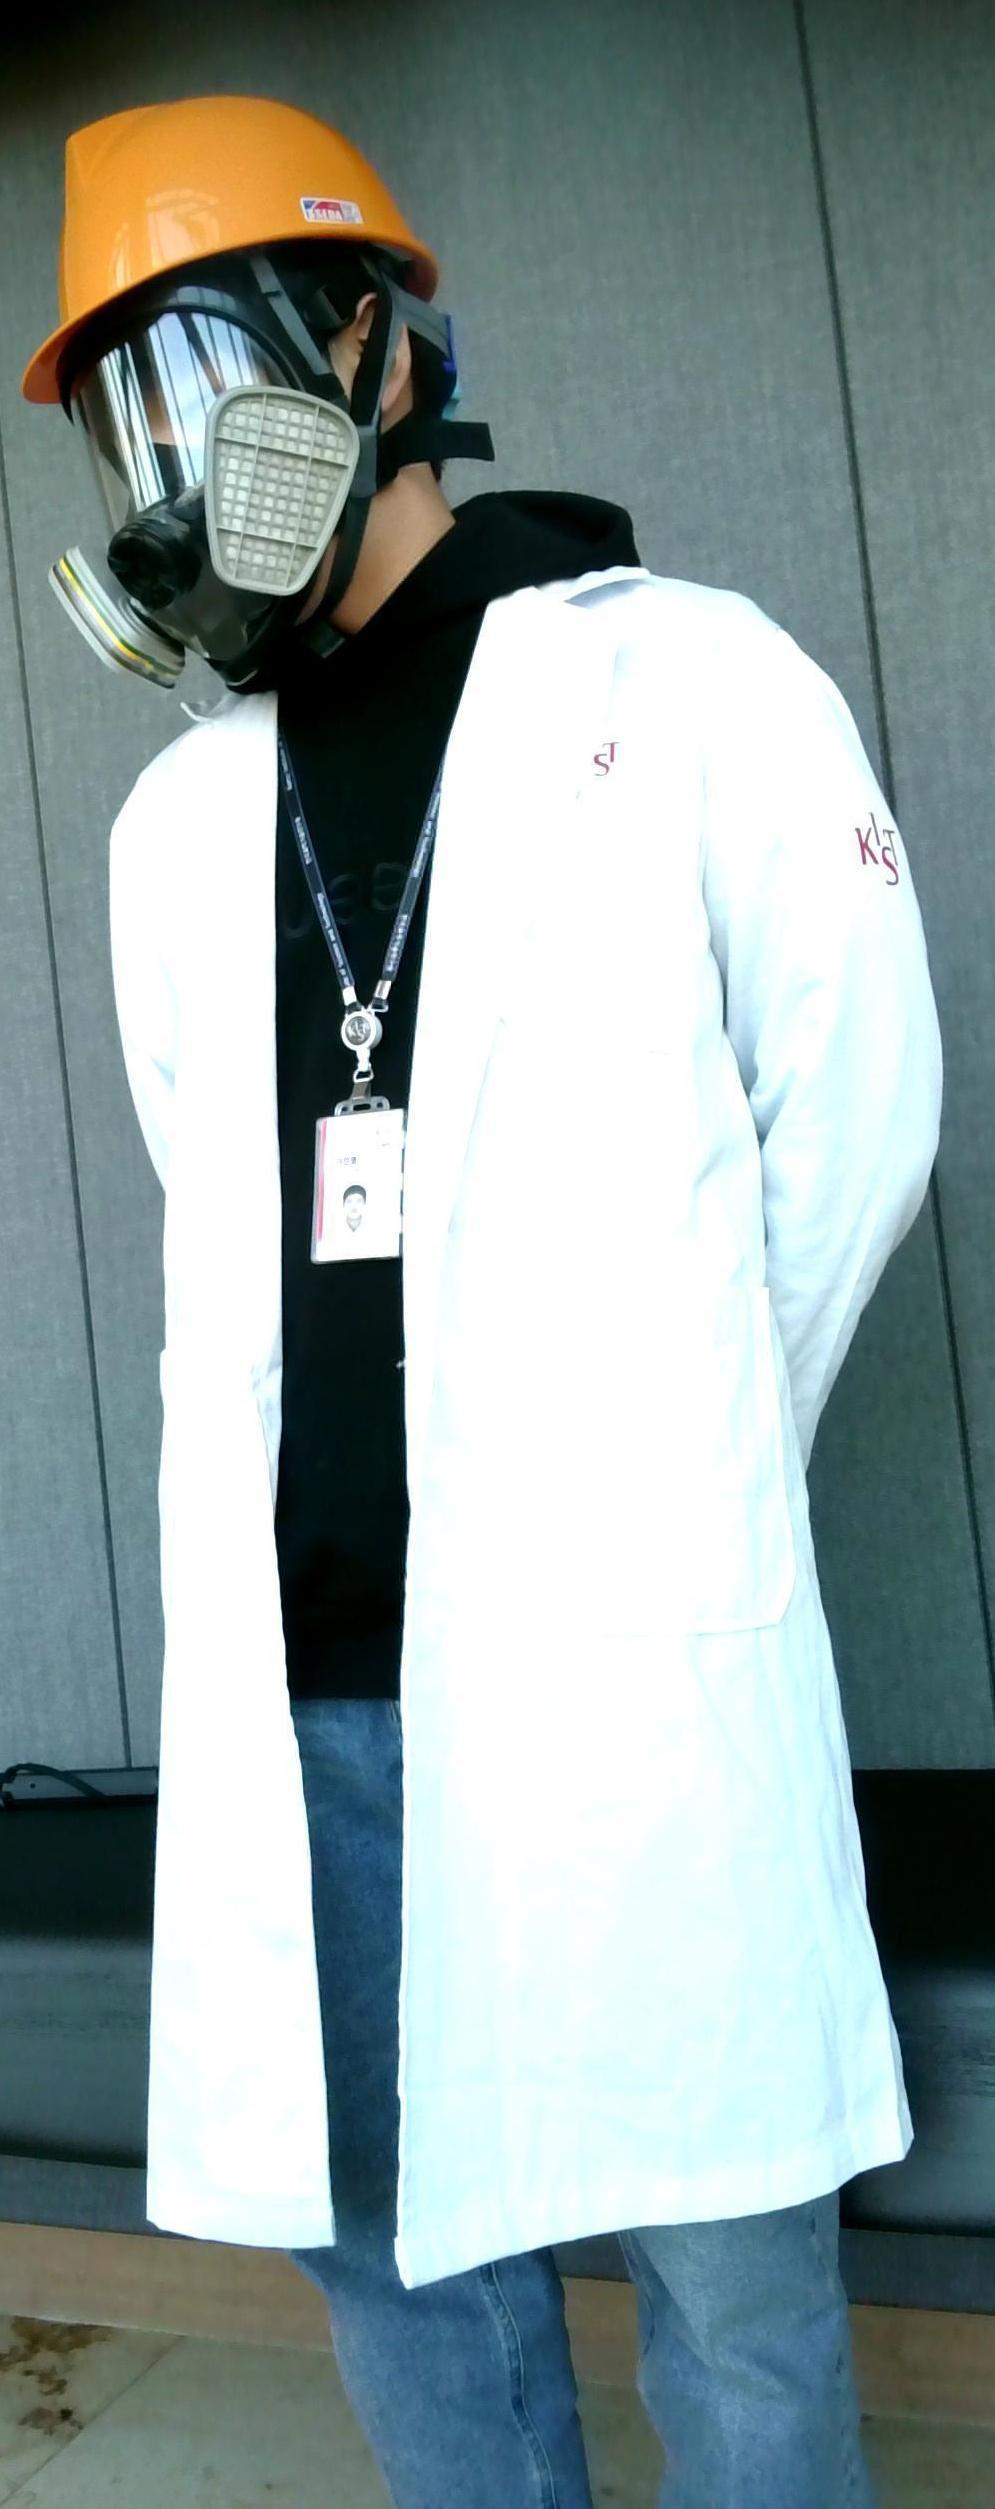lab_coat: (37, 722, 929, 2184)
